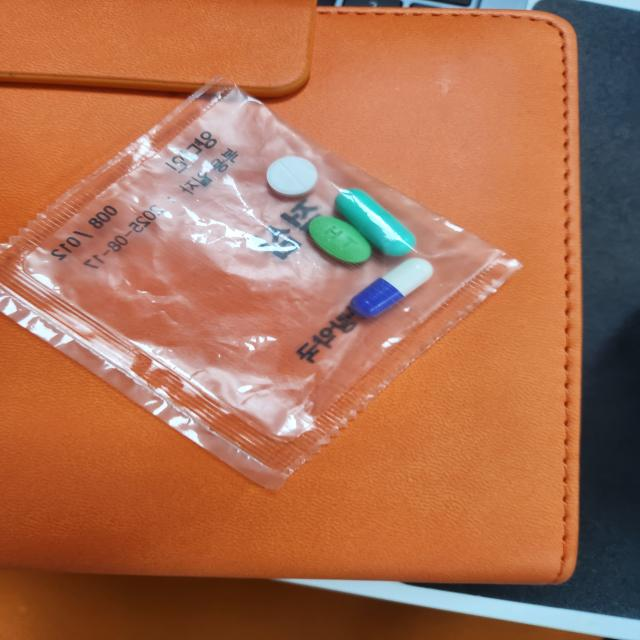러키펜정: (265, 155, 320, 202)
씨엠지세파클러캡슐: (348, 257, 435, 323)
에르도캡슐: (333, 189, 417, 259)
휴티렌정: (304, 216, 374, 269)
